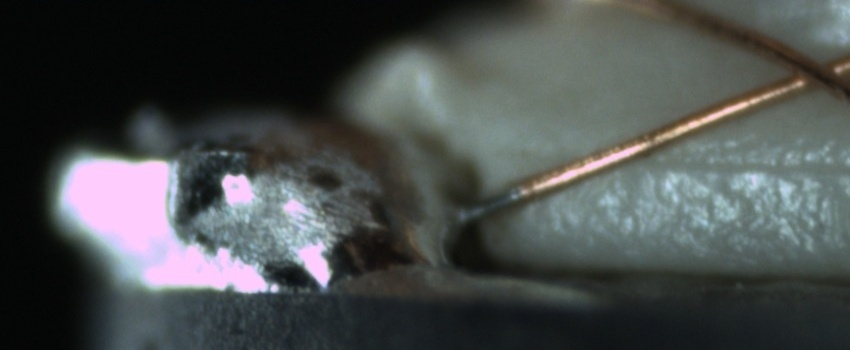CL: (762, 39, 847, 101)
DL: (627, 135, 848, 196)
TS: (455, 186, 520, 222)
TTCW: (449, 171, 544, 226)
